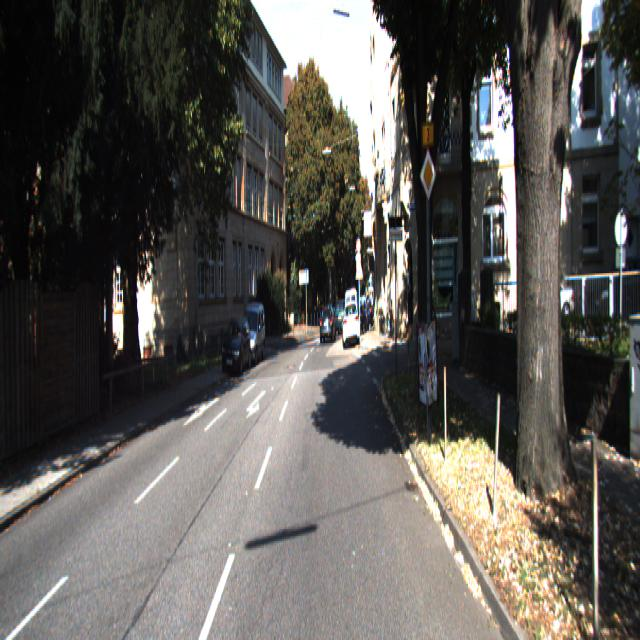Car: (517, 274, 571, 332), (219, 315, 253, 380), (238, 301, 266, 370), (342, 299, 360, 350), (319, 304, 337, 345)
